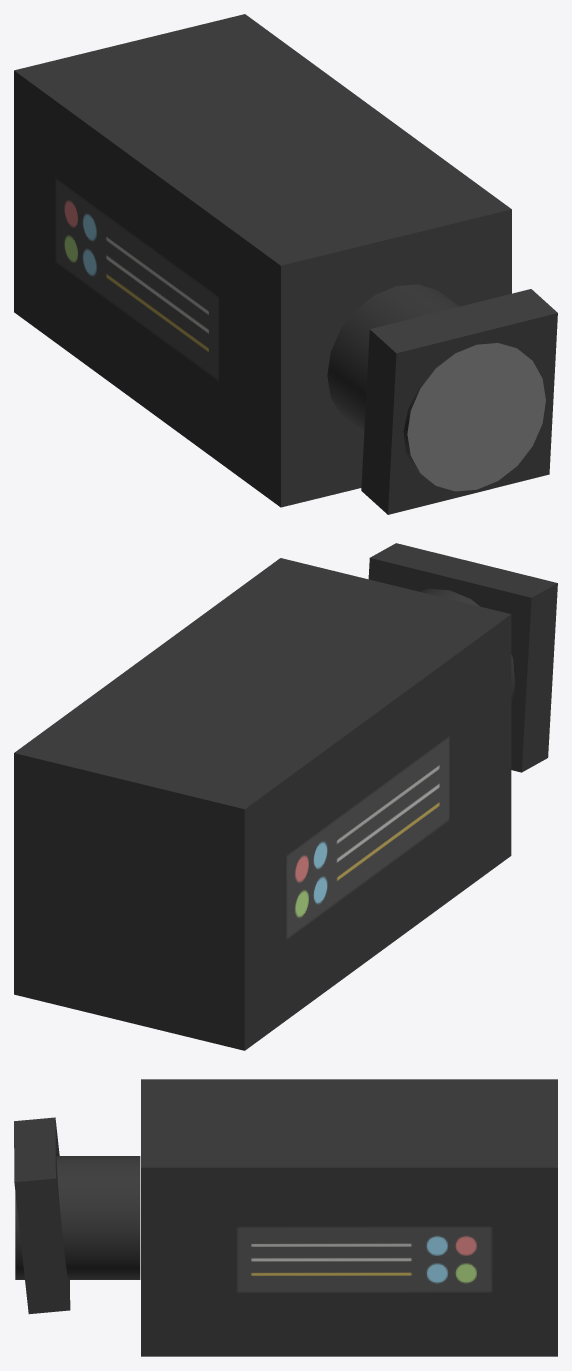
File: imaxCamera.gltf
3 renders of one model, top to bottom at view 1: azimuth 30°, elevation 25°; view 2: azimuth 150°, elevation 25°; view 3: azimuth 270°, elevation 25°, orthographic. The views are drawn at different scales.
Parts seen in each view (by area): view 1: main, lense, frame; view 2: main, frame; view 3: main, lense, frame.
Part boxes in pixels (bbox=[...]): main: bbox=[14, 14, 511, 507]; lense: bbox=[327, 284, 545, 491]; frame: bbox=[361, 289, 557, 514]; main: bbox=[14, 558, 511, 1050]; frame: bbox=[368, 543, 557, 772]; main: bbox=[141, 1079, 557, 1356]; lense: bbox=[15, 1156, 140, 1279]; frame: bbox=[14, 1117, 70, 1314].
Size of the model in its own units: 0.5 by 0.5 by 1.3.
3 materials, 3 textured.
